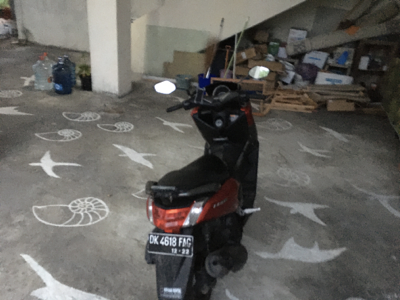moto: (140, 76, 261, 300)
